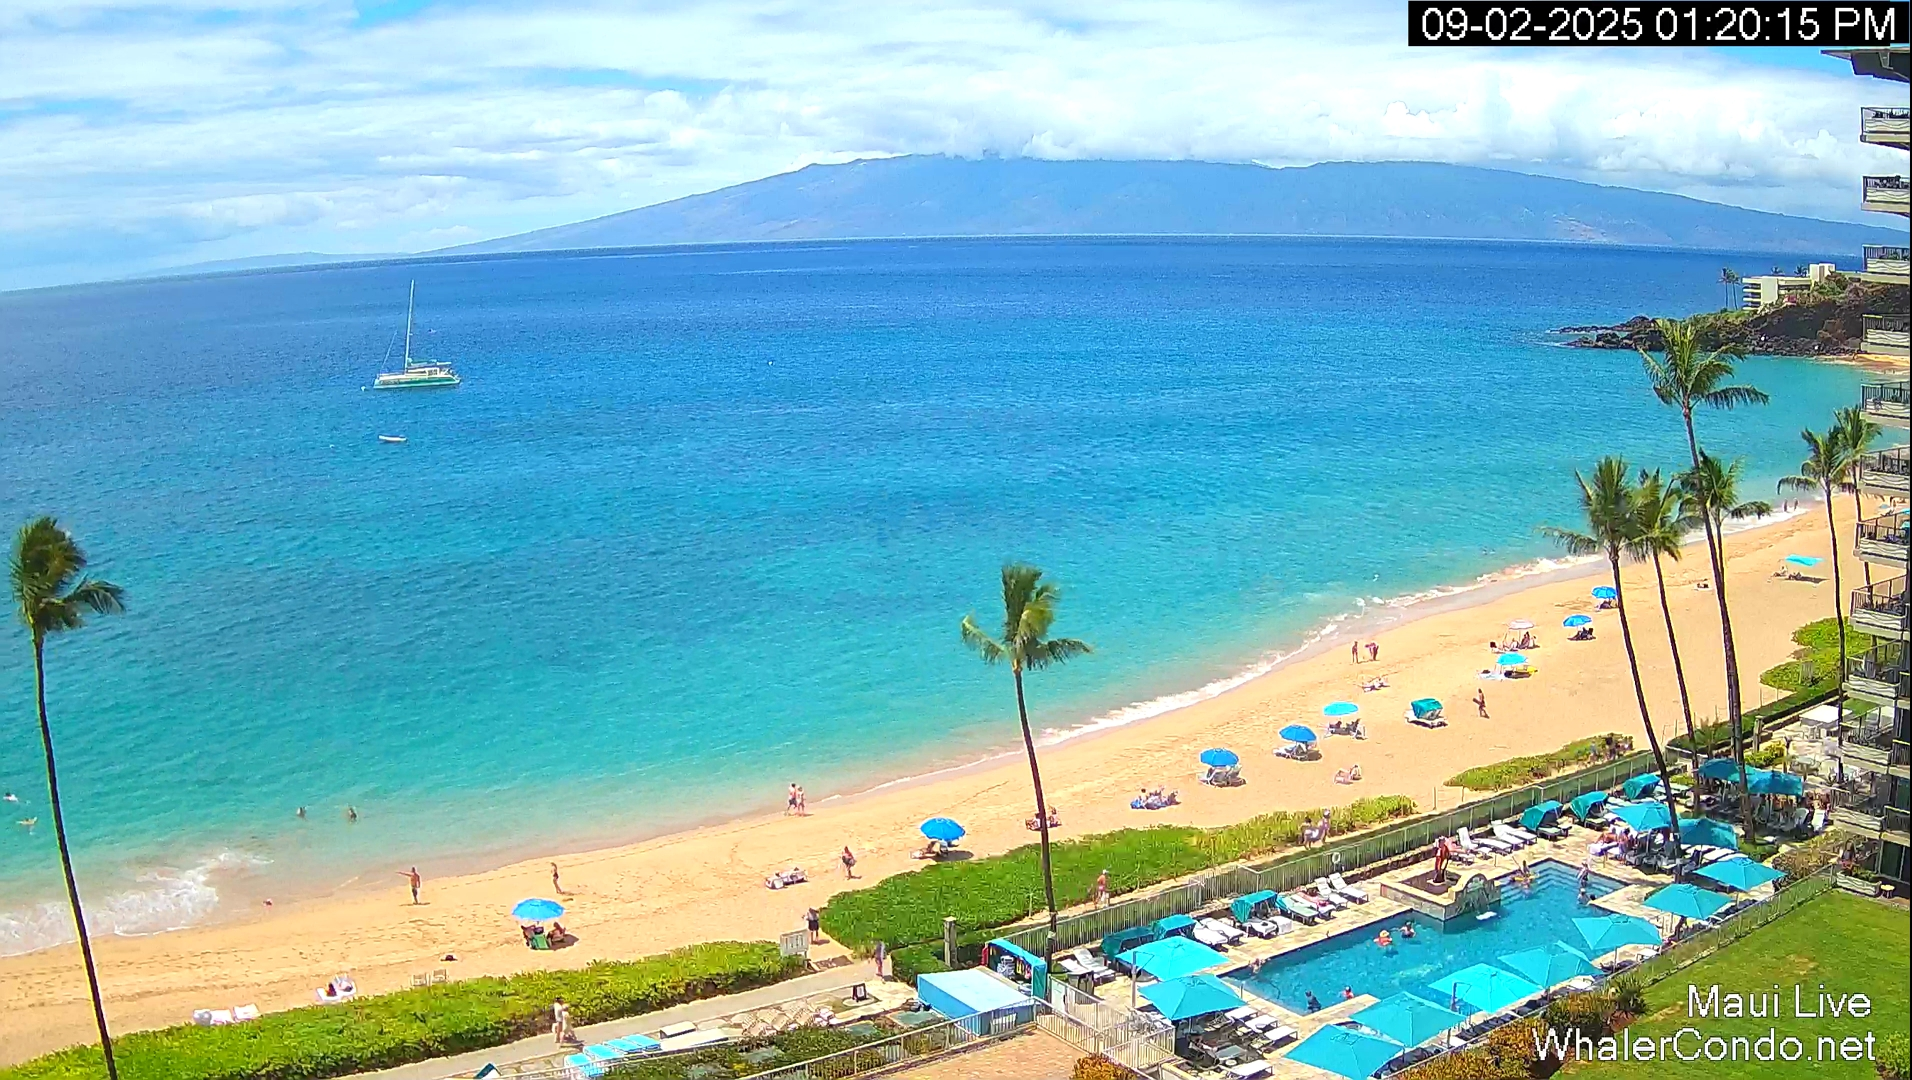boat: (372, 279, 461, 390), (378, 434, 408, 443)
person: (395, 866, 421, 905), (802, 907, 821, 945), (1434, 837, 1450, 882), (561, 1004, 578, 1042), (553, 996, 566, 1043), (1472, 688, 1490, 719), (841, 846, 856, 880), (550, 862, 564, 895), (874, 939, 886, 977), (785, 783, 798, 816), (1305, 990, 1322, 1013), (547, 922, 566, 942), (795, 786, 806, 817), (1364, 641, 1379, 661), (1097, 872, 1106, 903), (1351, 641, 1359, 664), (1343, 985, 1355, 1000), (1167, 790, 1179, 805), (296, 806, 307, 820), (348, 806, 357, 822), (262, 898, 274, 910), (1586, 628, 1596, 640), (1144, 794, 1152, 809), (1793, 498, 1799, 511), (1522, 632, 1531, 640), (1783, 499, 1788, 512)
